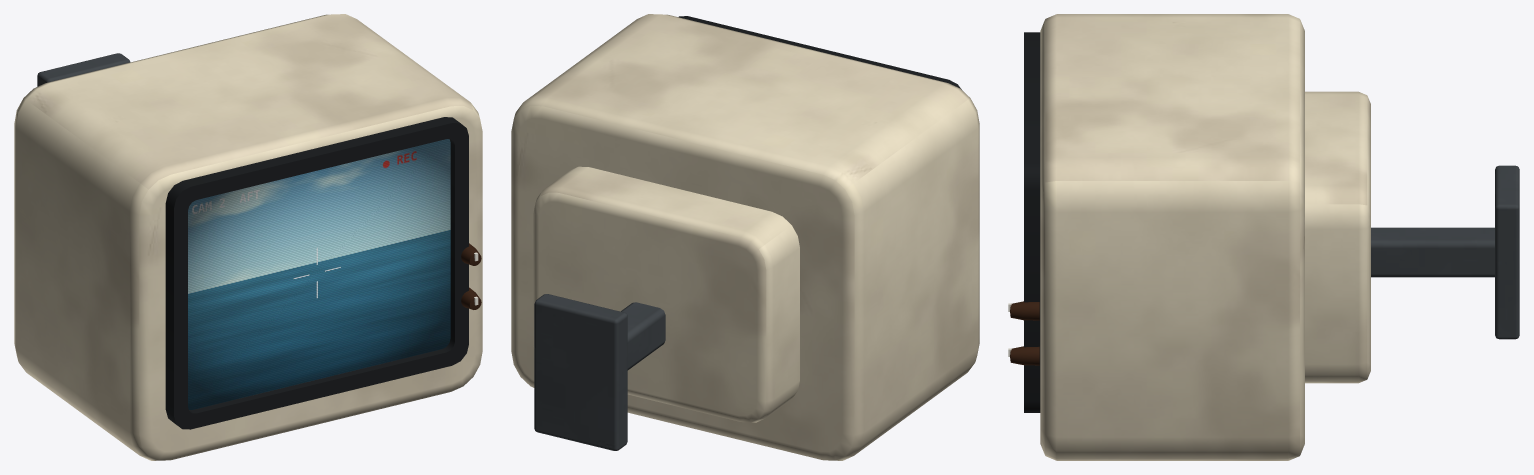
File: WallMonitorAft.glb
3 renders of one model, left to right at view 1: azimuth 30°, elevation 25°; view 2: azimuth 150°, elevation 25°; view 3: azimuth 270°, elevation 25°, orthographic.
Visible parts, largest first — view 1: WallMonitorAft_Body; view 2: WallMonitorAft_Body; view 3: WallMonitorAft_Body, WallMonitorAft_Knob1, WallMonitorAft_Knob2.
Boxes of the visible parts, x1,y1,x2,y2 form: WallMonitorAft_Body: (14,14,482,460); WallMonitorAft_Body: (511,14,979,460); WallMonitorAft_Body: (1024,14,1519,460); WallMonitorAft_Knob1: (1008,301,1039,320); WallMonitorAft_Knob2: (1008,346,1039,365).
Size of the model in its own units: 0.5 by 0.4 by 0.619.
6 materials, 4 textured.
